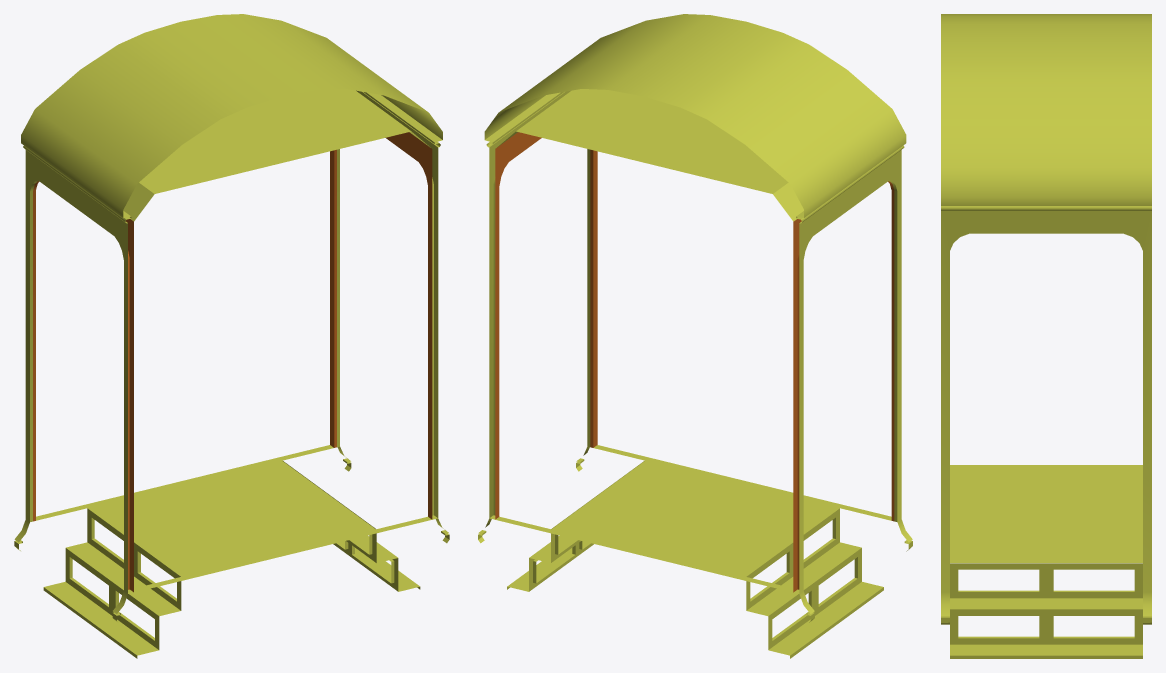
Rendered from vagon enter double lod1.FBX.
3 views of the same model, side by side, from view 1: azimuth 30°, elevation 25°; view 2: azimuth 150°, elevation 25°; view 3: azimuth 270°, elevation 25° (orthographic). The views are drawn at different scales.
Parts seen in each view (by area): view 1: Object1192; view 2: Object1192; view 3: Object1192.
Part boxes in pixels (x1,y1,x2,y2): Object1192: (14, 14, 449, 658); Object1192: (478, 14, 912, 658); Object1192: (941, 14, 1151, 658).
Bounding box in the file's own units: 2.25 × 3.44 × 1.2.
